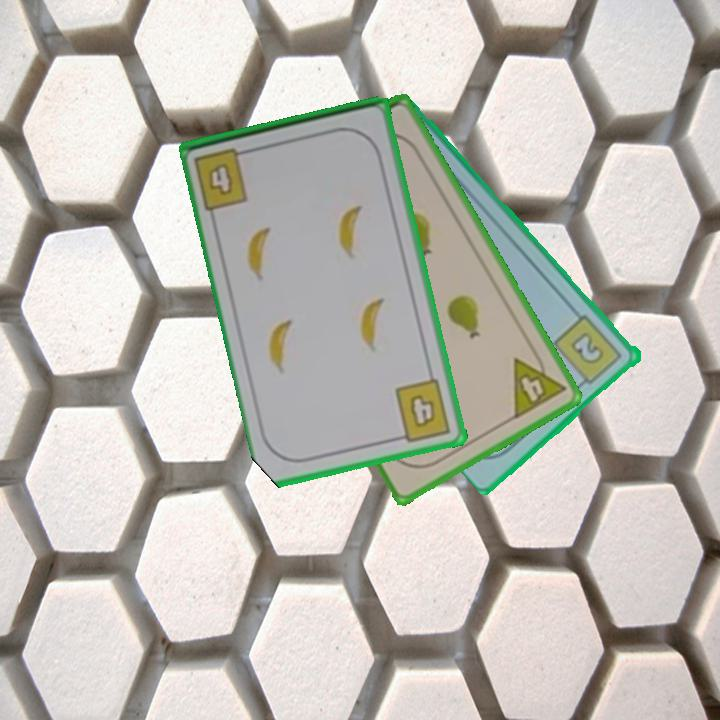2b: (550, 311, 626, 392)
4b: (190, 144, 256, 213), (392, 375, 454, 445)
4p: (510, 344, 569, 422)
